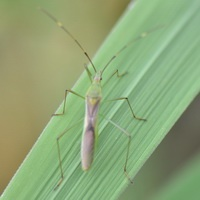insect: (39, 8, 126, 170)
